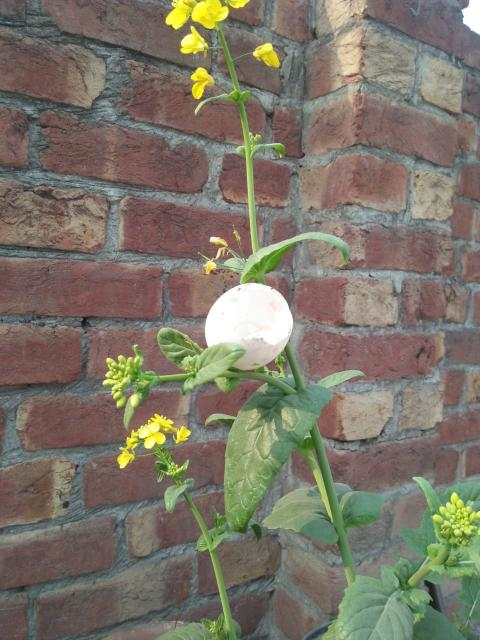Roto: (204, 282, 294, 372)
